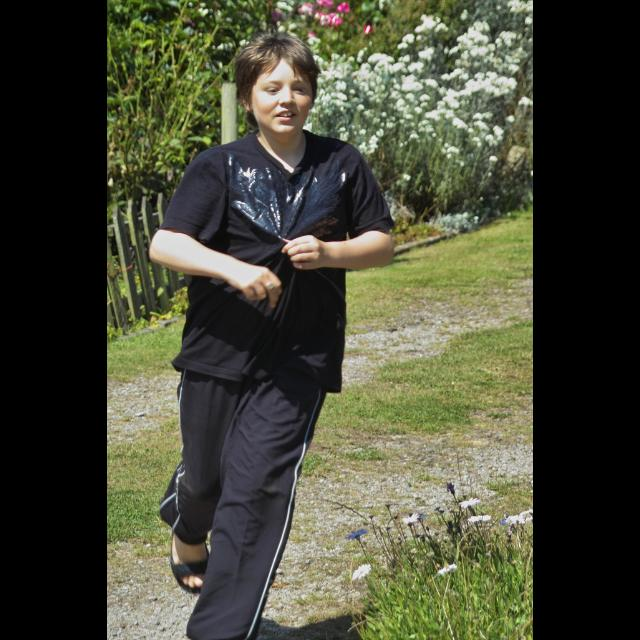Flower: (287, 0, 533, 194), (352, 481, 534, 585), (349, 562, 375, 584)
